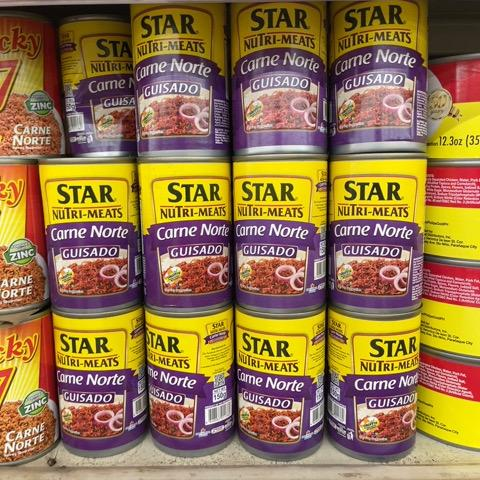canned-goods: (35, 151, 151, 319), (326, 150, 437, 318), (320, 0, 436, 157), (131, 148, 236, 320), (126, 2, 235, 162), (323, 307, 427, 466), (231, 302, 331, 467), (49, 298, 148, 464), (225, 0, 328, 158), (139, 298, 238, 459), (58, 12, 134, 157)
